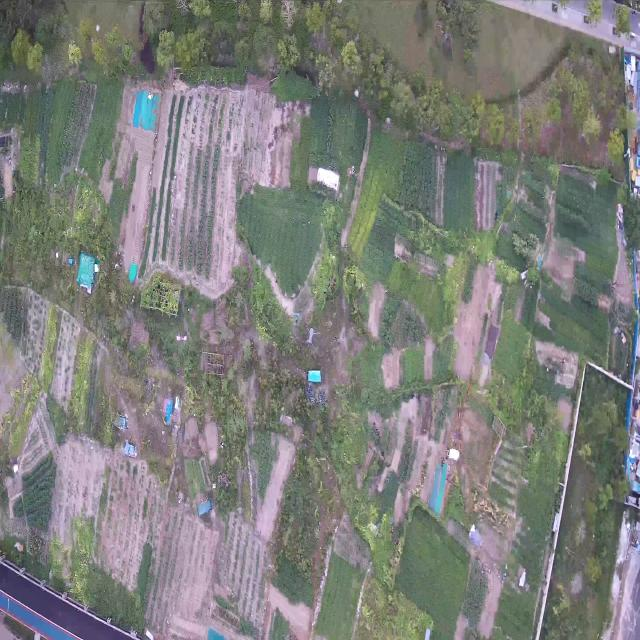UAV: (301, 324, 321, 349)
